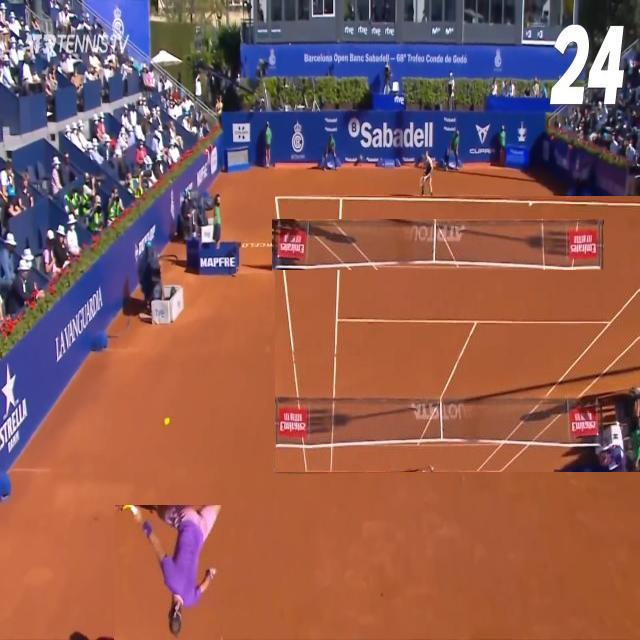court: (275, 196, 640, 472)
net: (272, 220, 604, 272)
player: (115, 505, 221, 640)
